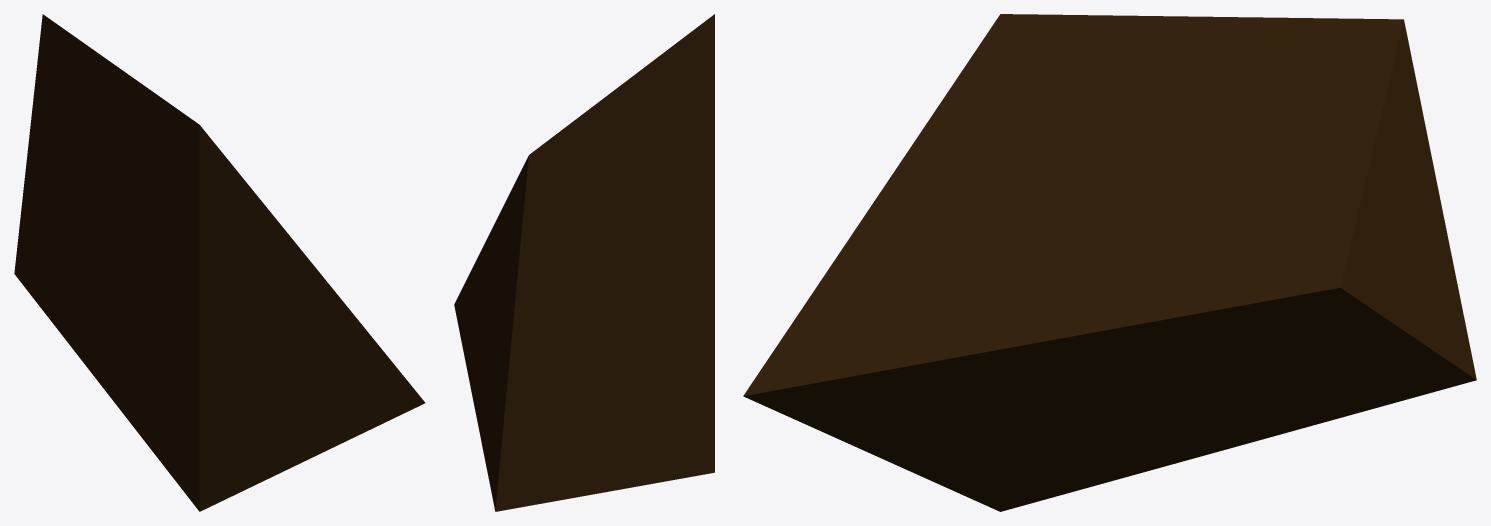
Rendered from Debris1.glb.
3 renders of one model, left to right at view 1: azimuth 30°, elevation 25°; view 2: azimuth 150°, elevation 25°; view 3: azimuth 270°, elevation 25°, orthographic. The views are drawn at different scales.
Parts seen in each view (by area): view 1: Cylinder_cell.012; view 2: Cylinder_cell.012; view 3: Cylinder_cell.012.
Boxes of the visible parts, x1=… form: Cylinder_cell.012: x1=14, y1=14, x2=425, y2=511; Cylinder_cell.012: x1=454, y1=14, x2=714, y2=511; Cylinder_cell.012: x1=743, y1=14, x2=1476, y2=511.
Size of the model in its own units: 0.3356 by 0.9862 by 1.32.
